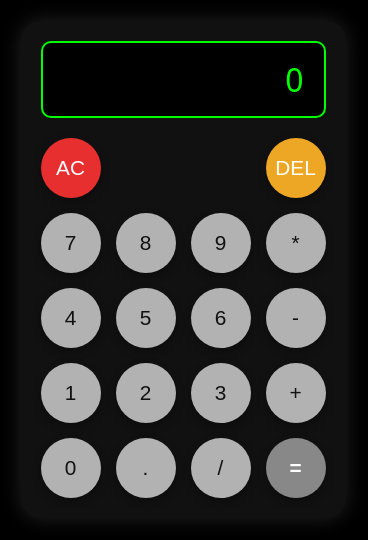
Test: AC clears the input
The width and height of the screenshot is (368, 540).
What coordinates should you click on to do the following:
click the button "1"
I would click on:
 (70, 392)
Its box is [40,362,100,422].
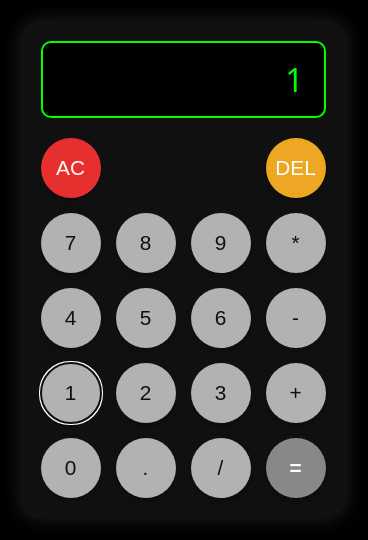
expect the text with test id "display" reads "1": met, box [285,58,304,100]
What coordinates should you click on to do the following:
click the button "AC"
I would click on:
 (70, 168)
Its box is [40,138,100,198].
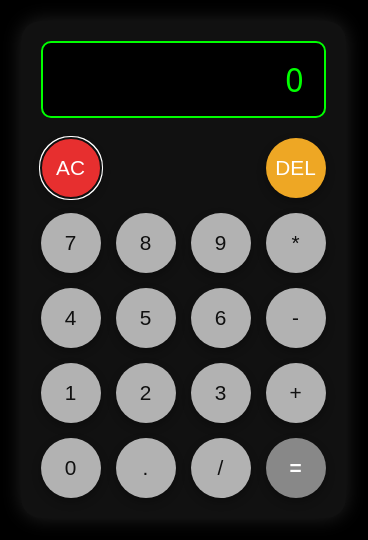
expect the text with test id "display" reads "0": met, box [285,58,304,100]
